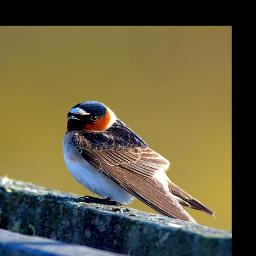Swallow: (61, 100, 216, 229)
